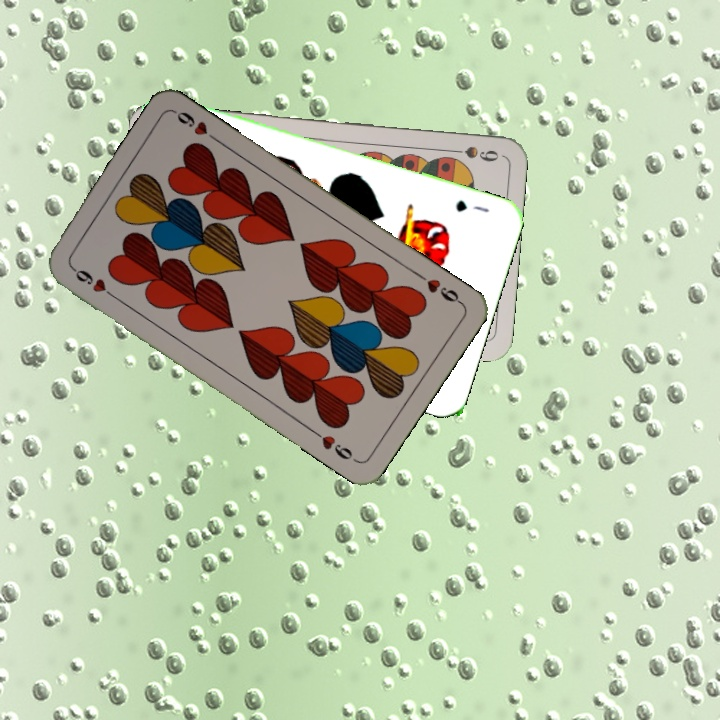GU: (451, 195, 492, 216)
H9: (67, 262, 120, 302), (413, 268, 465, 307)
S9: (443, 142, 502, 165)
